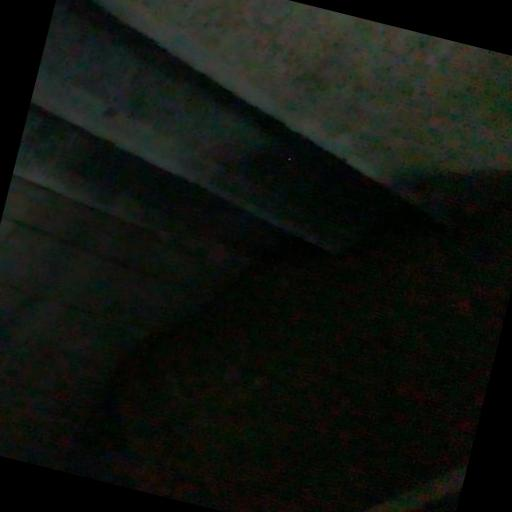stairs: (31, 0, 393, 250), (96, 0, 511, 186), (13, 104, 290, 255)
